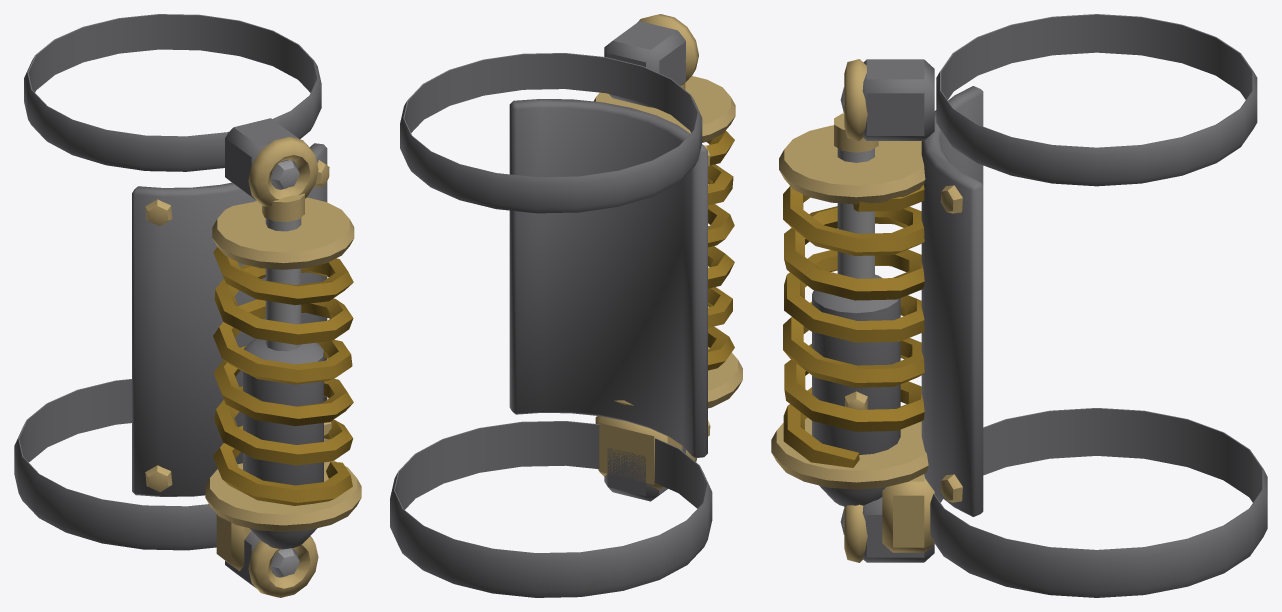
File: Kit_Mod_Damper.glb
The picture shows the model from 3 angles, left to right: view 1: azimuth 30°, elevation 25°; view 2: azimuth 150°, elevation 25°; view 3: azimuth 270°, elevation 25°; orthographic projection. The views are drawn at different scales.
Parts seen in each view (by area): view 1: Kit_Mod_Damper; view 2: Kit_Mod_Damper; view 3: Kit_Mod_Damper.
Part boxes in pixels (box(x1,y1,x2,y2)): Kit_Mod_Damper: box(14, 14, 361, 597); Kit_Mod_Damper: box(390, 14, 742, 597); Kit_Mod_Damper: box(771, 14, 1267, 597).
Size of the model in its own units: 0.132 by 0.2095 by 0.1898.
